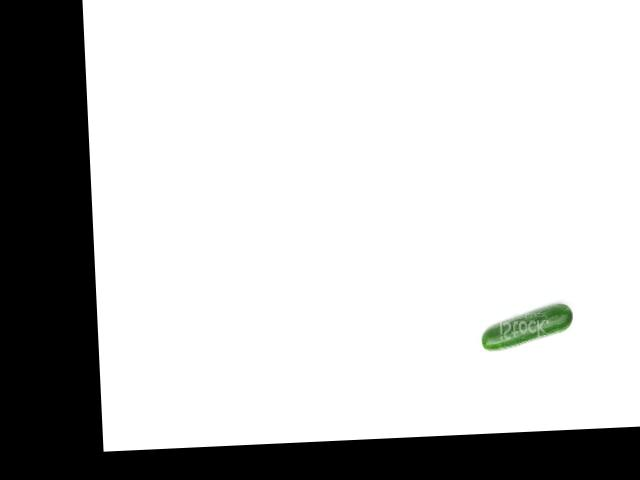cucumber: (480, 303, 575, 351)
